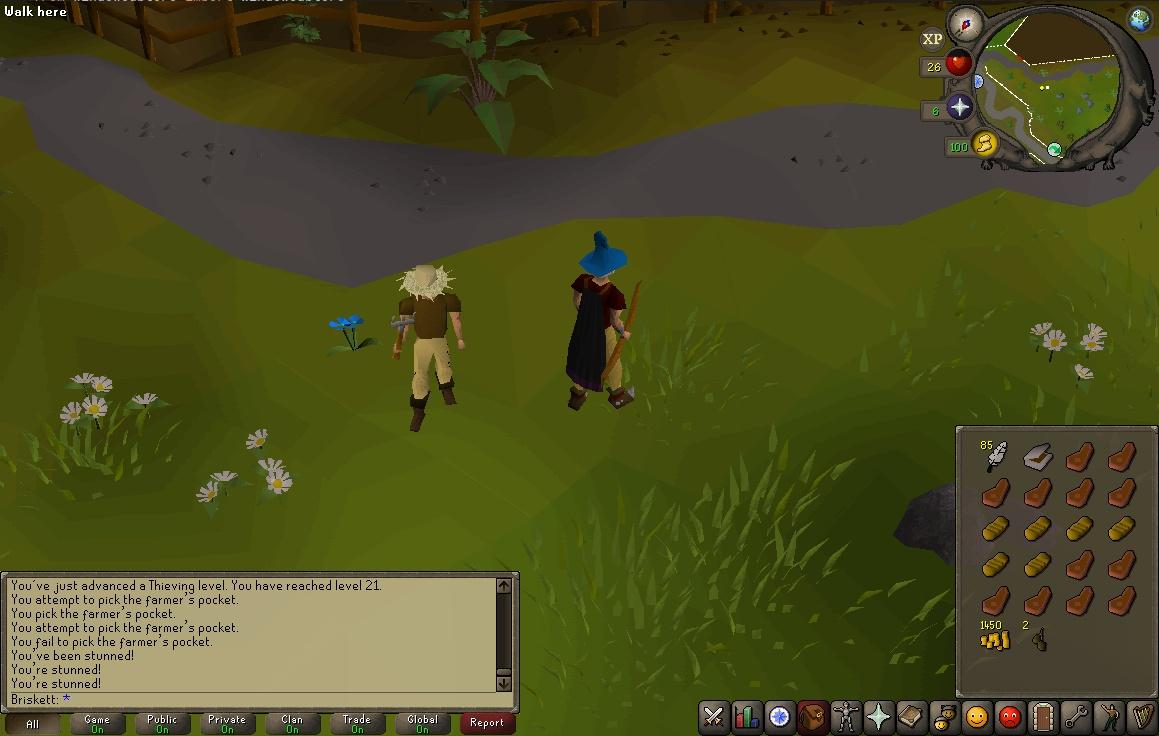Farmer: (390, 263, 467, 433)
